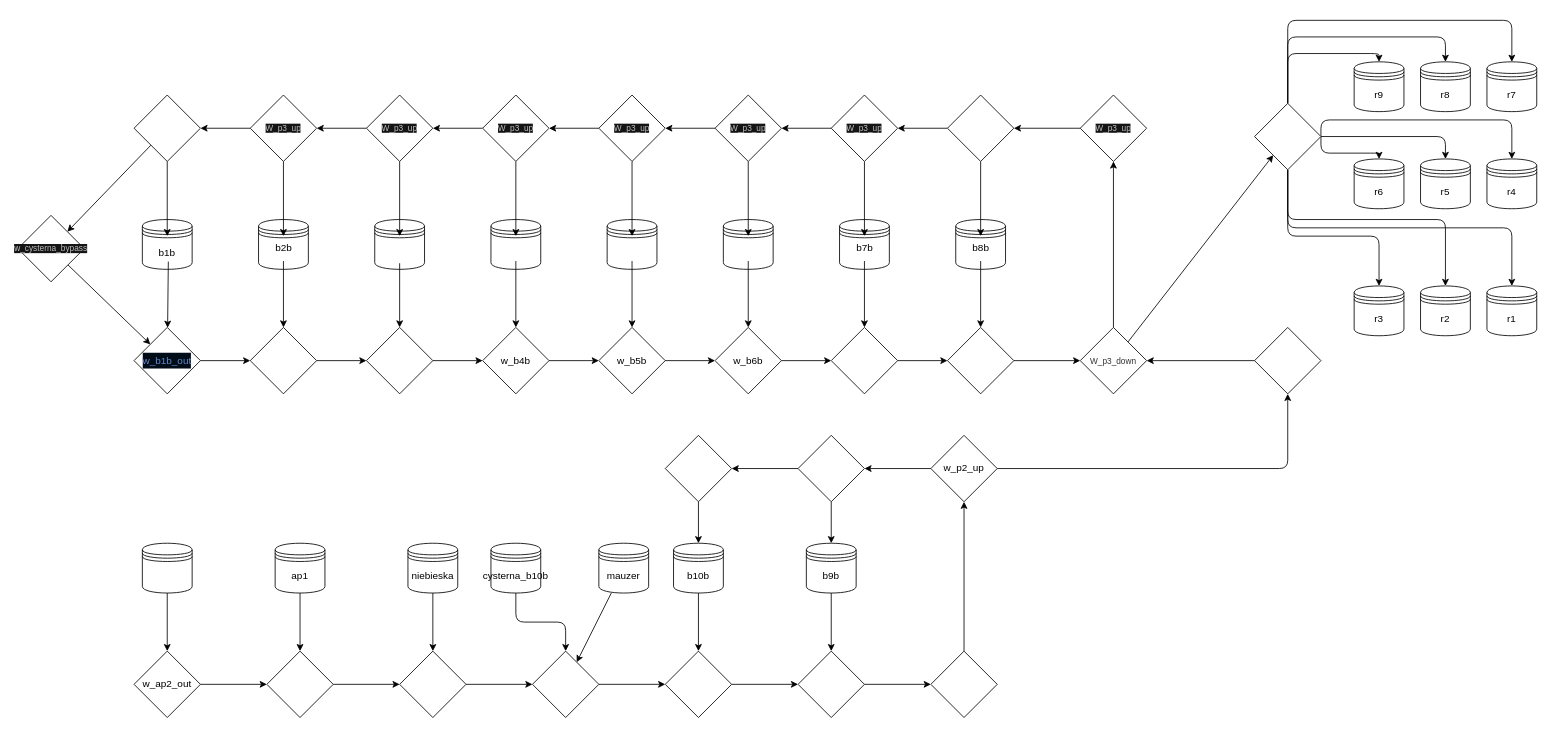
Some shapes in this 1551 by 732 pixel diagram are drawn without their labels. The shapes that lost their labels are listed below. From the top down, each one's box as (x1, y1, x2, y2) in pixels, then its label:
(133, 94, 200, 161): w_b1b_in
(947, 94, 1014, 161): w_b8b_in
(1254, 103, 1321, 170): W_tankowanie
(374, 219, 425, 269): b3b
(490, 219, 541, 269): b4b
(606, 219, 657, 269): b5b
(723, 219, 773, 269): b6b
(249, 327, 317, 394): w_b2b
(366, 327, 433, 394): w_b3b
(830, 327, 898, 394): w_b7b
(947, 327, 1014, 394): w_b8b_out
(1254, 327, 1321, 394): W_R3_R6_R9
(142, 542, 192, 593): ap2
(266, 650, 333, 718): w_ap1_out
(399, 650, 466, 718): w_niebieska_out
(532, 650, 599, 718): w_cys_mauzer_out
(930, 650, 997, 718): w_p2_down
